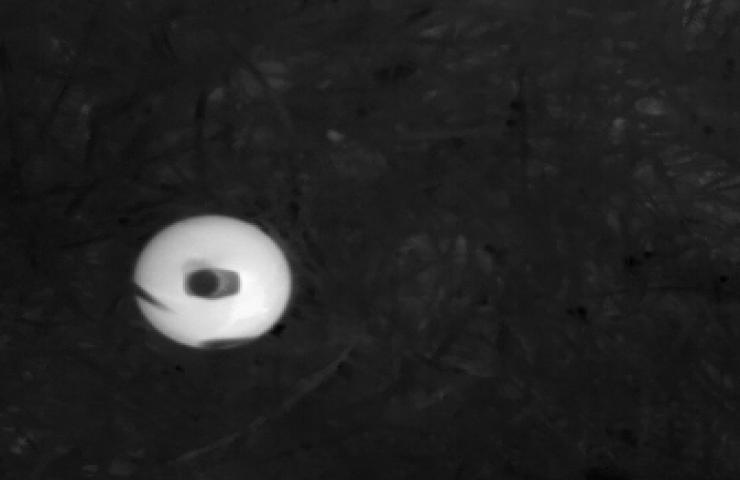landmines: (125, 208, 302, 360)
